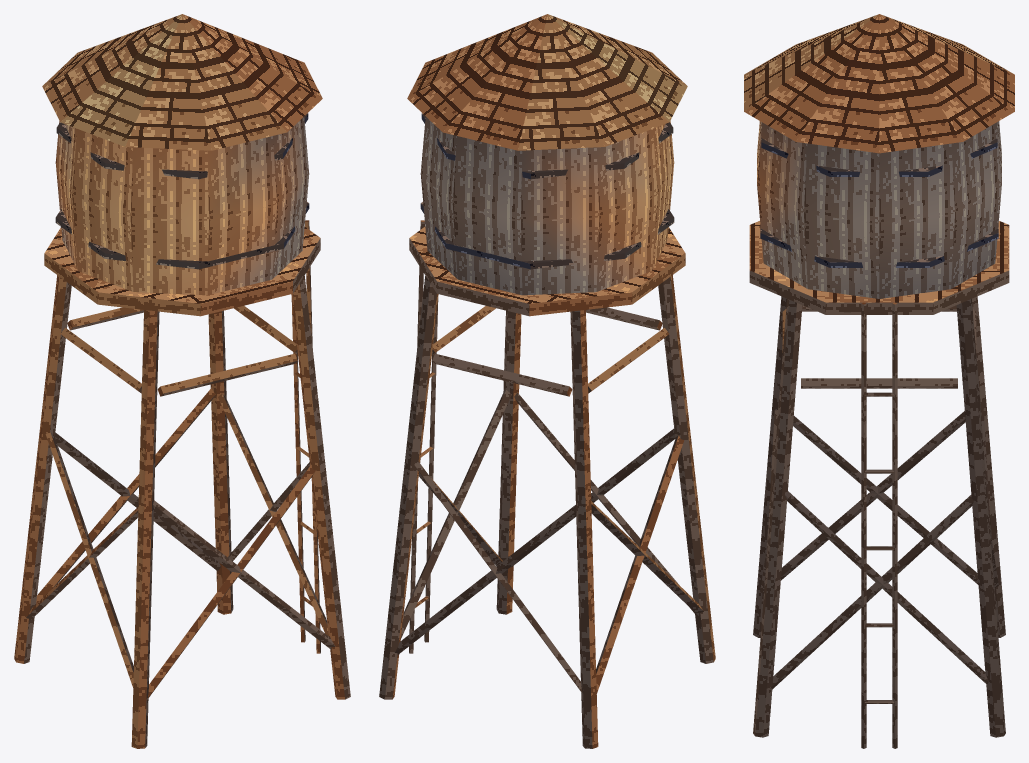
Rendered from wtown.water_tower__tall.glb.
3 views of the same model, side by side, from view 1: azimuth 30°, elevation 25°; view 2: azimuth 150°, elevation 25°; view 3: azimuth 270°, elevation 25° (orthographic).
Parts seen in each view (by area): view 1: kit_tank, kit_cap, kit_legs, kit_bracing_x, kit_bracing, kit_deck, kit_girts, kit_hoops, kit_ladder; view 2: kit_tank, kit_cap, kit_legs, kit_bracing_x, kit_bracing, kit_deck, kit_girts, kit_hoops, kit_ladder; view 3: kit_tank, kit_cap, kit_legs, kit_deck, kit_ladder, kit_bracing_x, kit_bracing, kit_hoops, kit_girts, kit_rungs.
Part boxes in pixels (left/top/right/bottom): kit_tank: left=55, top=116, right=309, bottom=295; kit_cap: left=42, top=14, right=322, bottom=150; kit_legs: left=14, top=275, right=350, bottom=748; kit_bracing_x: left=36, top=388, right=335, bottom=687; kit_bracing: left=26, top=393, right=328, bottom=698; kit_deck: left=44, top=226, right=320, bottom=316; kit_girts: left=60, top=306, right=297, bottom=396; kit_hoops: left=55, top=113, right=309, bottom=269; kit_ladder: left=291, top=220, right=320, bottom=653; kit_tank: left=420, top=116, right=674, bottom=295; kit_cap: left=407, top=14, right=687, bottom=150; kit_legs: left=379, top=275, right=715, bottom=748; kit_bracing_x: left=401, top=389, right=703, bottom=692; kit_bracing: left=394, top=392, right=694, bottom=693; kit_deck: left=409, top=226, right=685, bottom=316; kit_girts: left=432, top=306, right=669, bottom=396; kit_hoops: left=420, top=113, right=674, bottom=269; kit_ladder: left=409, top=220, right=438, bottom=653; kit_tank: left=757, top=121, right=1001, bottom=298; kit_cap: left=744, top=14, right=1014, bottom=153; kit_legs: left=753, top=296, right=1005, bottom=737; kit_deck: left=749, top=221, right=1009, bottom=314; kit_ladder: left=861, top=302, right=897, bottom=748; kit_bracing_x: left=766, top=410, right=998, bottom=683; kit_bracing: left=760, top=415, right=991, bottom=689; kit_hoops: left=760, top=138, right=998, bottom=267; kit_girts: left=782, top=305, right=976, bottom=388; kit_rungs: left=864, top=392, right=894, bottom=703.
Size of the model in its own units: 4.72 by 11.86 by 4.34.
5 materials, 5 textured.
